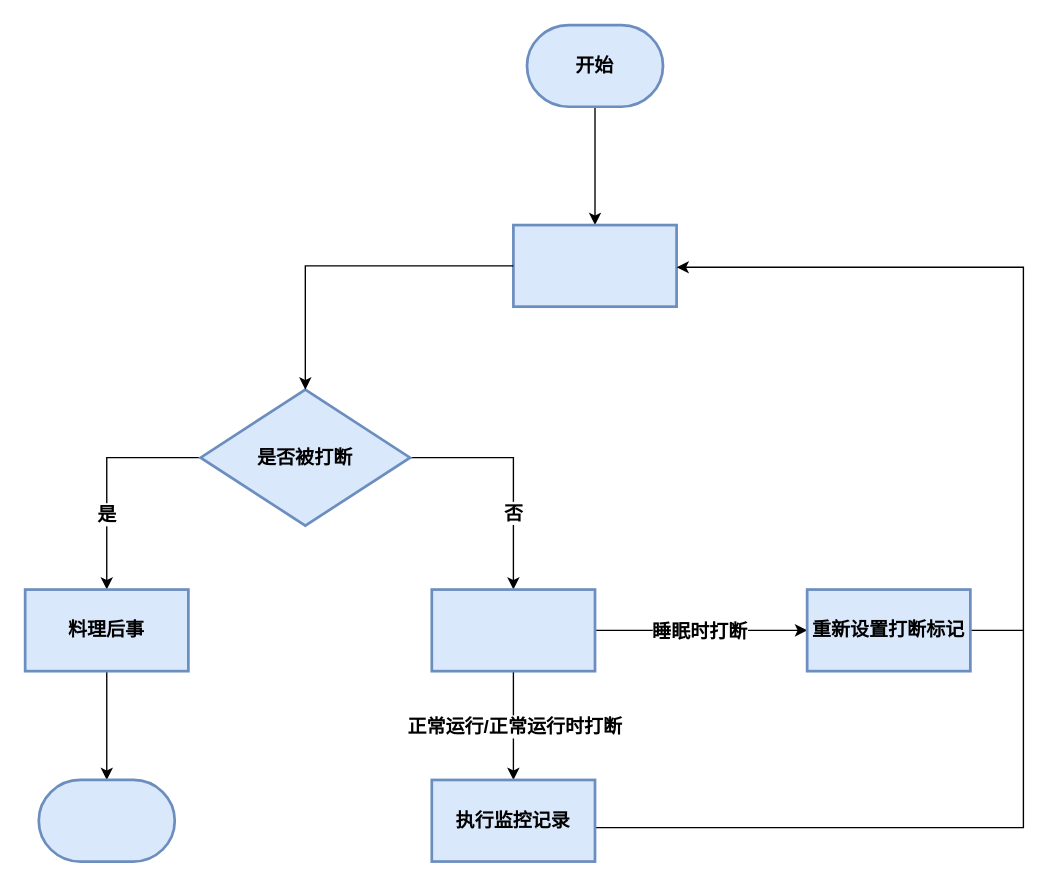
Image size: 1058x885. Some labels were removed from this diagram. Here are the shapes that lost their labels. From the top down, the centre of each, then its label:
At point 594,265: "while(true)".
At point 513,630: "睡眠1s".
At point 106,820: "结束".
